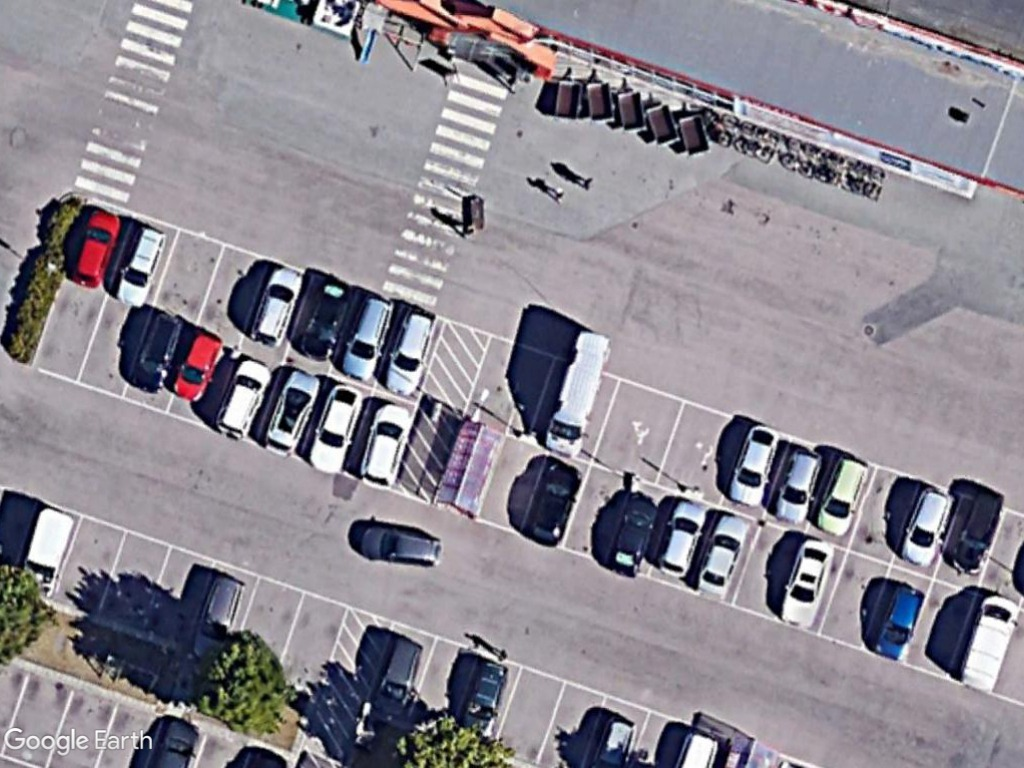car: (259, 366, 325, 458), (352, 400, 417, 492), (308, 379, 367, 474), (299, 273, 360, 364), (244, 263, 307, 351), (778, 532, 835, 629), (893, 486, 957, 571), (128, 306, 188, 396), (339, 294, 399, 383), (383, 306, 441, 397), (529, 458, 587, 549), (690, 510, 751, 596), (814, 453, 873, 538), (725, 421, 783, 506), (606, 494, 663, 580), (215, 357, 273, 441), (70, 206, 126, 291), (870, 583, 929, 662), (655, 498, 711, 581), (114, 221, 167, 308), (356, 521, 447, 570), (771, 447, 827, 526), (169, 327, 223, 404)
van: (537, 325, 620, 457), (954, 595, 1022, 696)
